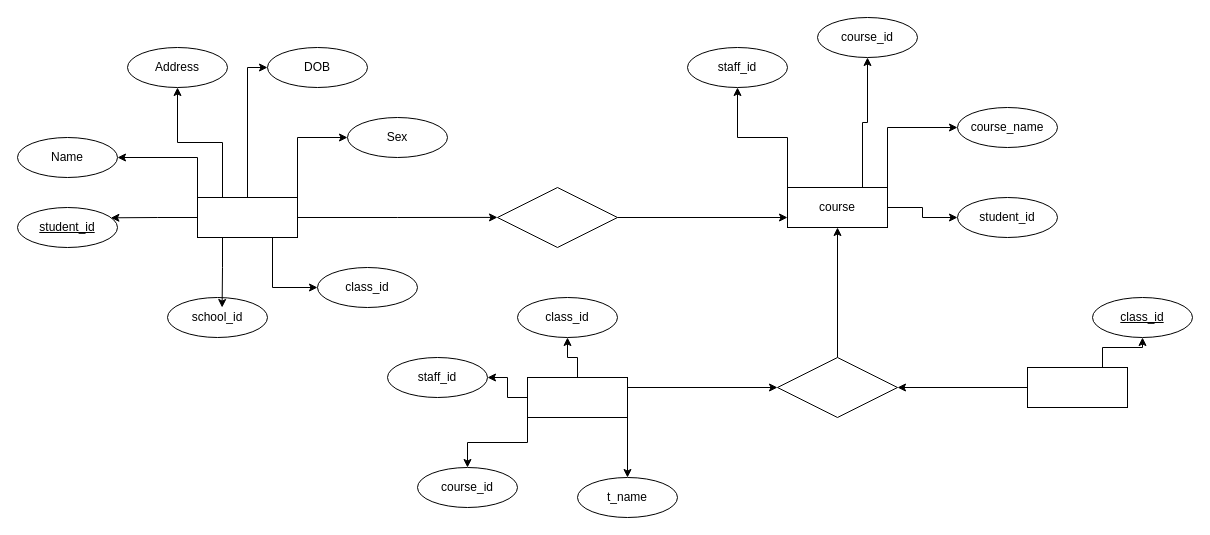
The diagram is 1210 pixels wide and 535 high, and some of its shapes have lost their labels. The shapes that lost their labels are listed below. From the top down, each one's centre as x and y in pixels, then its label:
At point (247, 217): "student".
At point (557, 217): "opt".
At point (577, 397): "teacher".
At point (837, 387): "teaches".
At point (1077, 387): "class".
